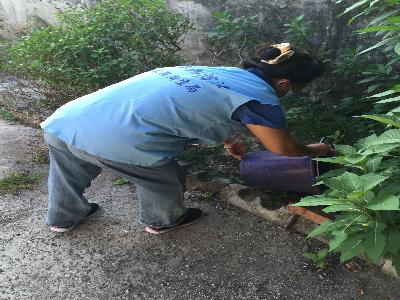bucket: (234, 147, 338, 197)
